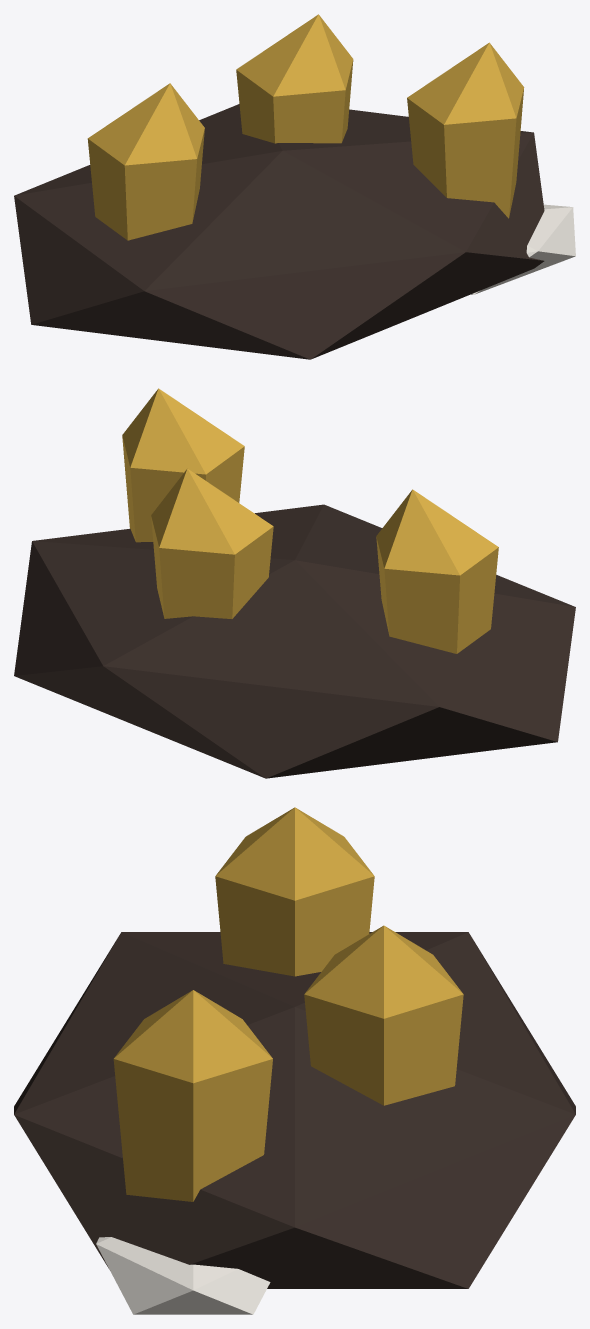
The model's file is res_niter.glb.
3 renders of one model, top to bottom at view 1: azimuth 30°, elevation 25°; view 2: azimuth 150°, elevation 25°; view 3: azimuth 270°, elevation 25°, orthographic. The views are drawn at different scales.
Parts seen in each view (by area): view 1: res_niter; view 2: res_niter; view 3: res_niter.
Boxes of the visible parts, x1=… form: res_niter: x1=14, y1=14, x2=575, y2=359; res_niter: x1=14, y1=388, x2=575, y2=778; res_niter: x1=14, y1=807, x2=575, y2=1314.
Size of the model in its own units: 0.3047 by 0.135 by 0.2212.
